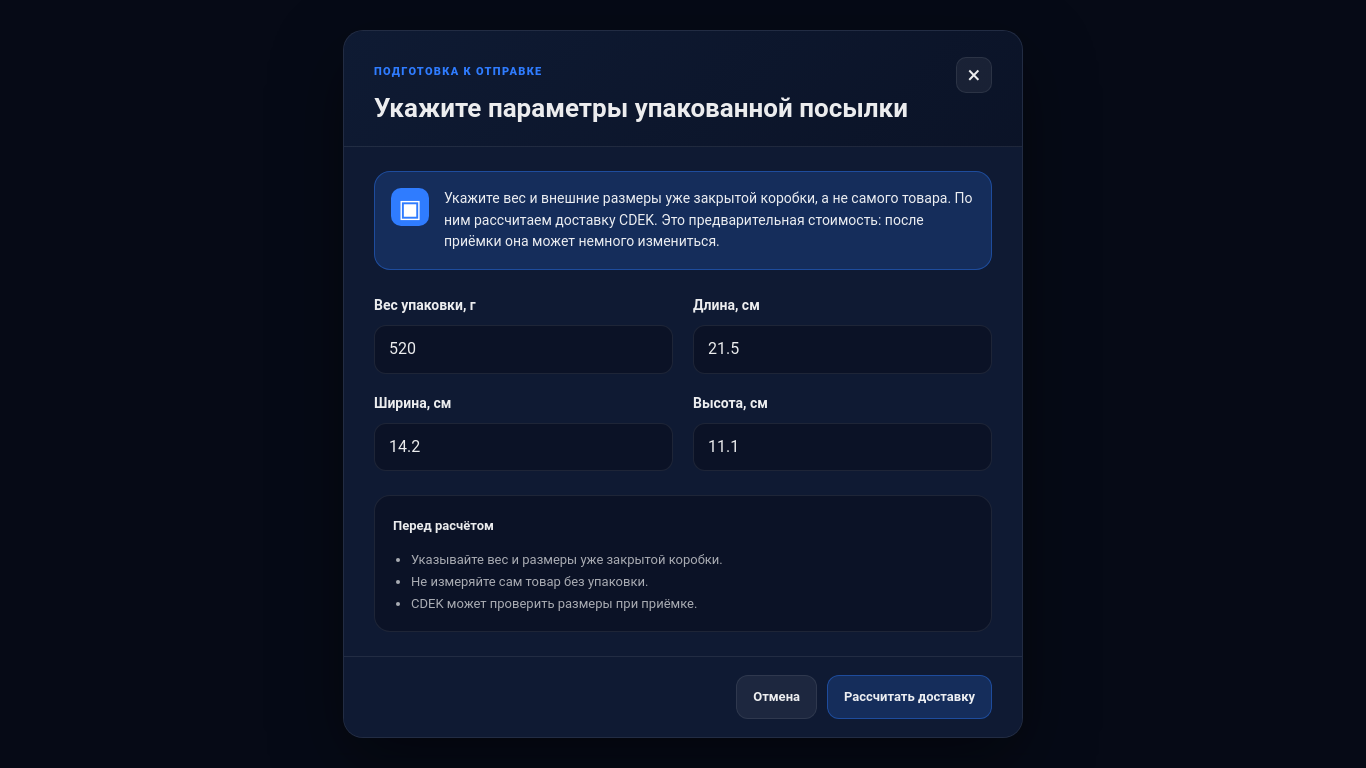
PackedOrderModal › does not offer confirmation when delivery exceeds the seller amount
The image size is (1366, 768).
Click the button "Рассчитать доставку": (910, 697) [827,675,992,719]
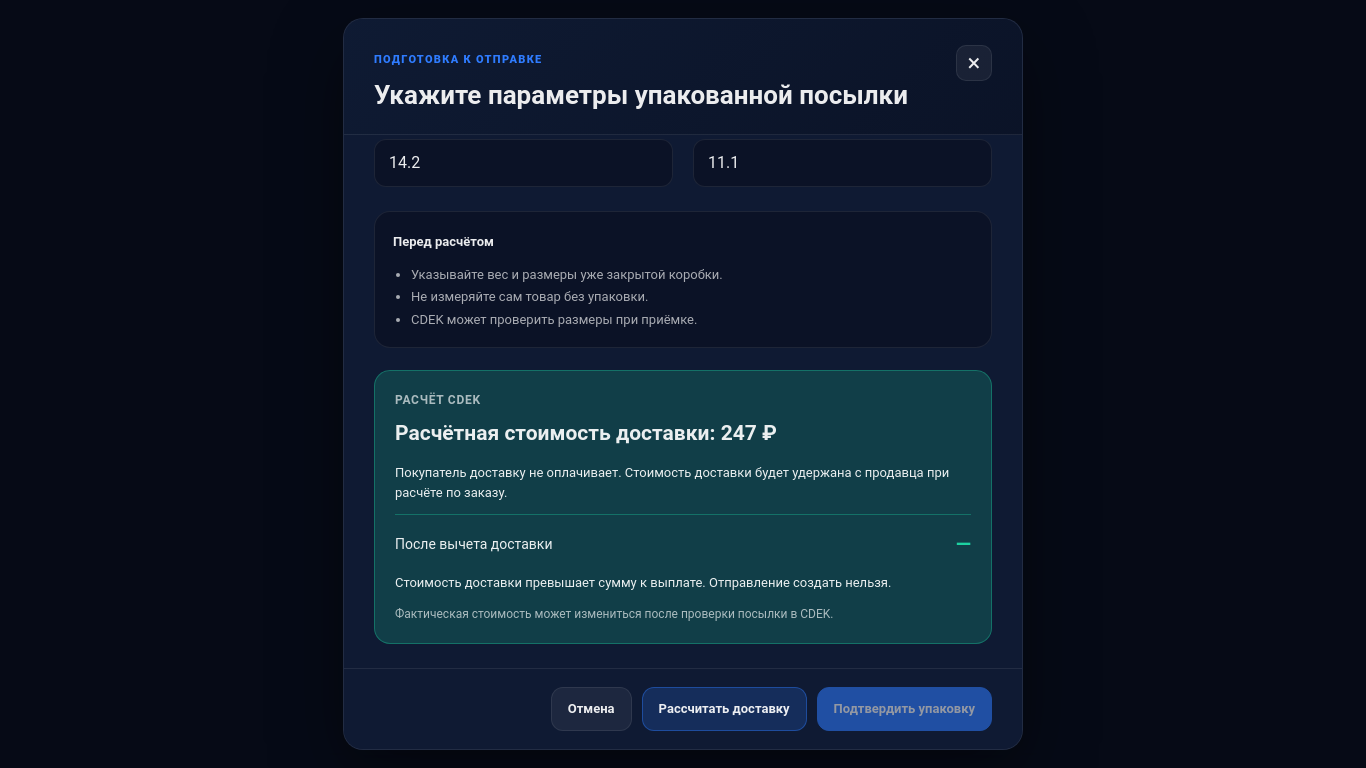
Expected: the text "Стоимость доставки превышает сумму к выплате" is shown, [395,575,891,590]
Expected: the button "Подтвердить упаковку" is disabled, [817,687,992,731]
